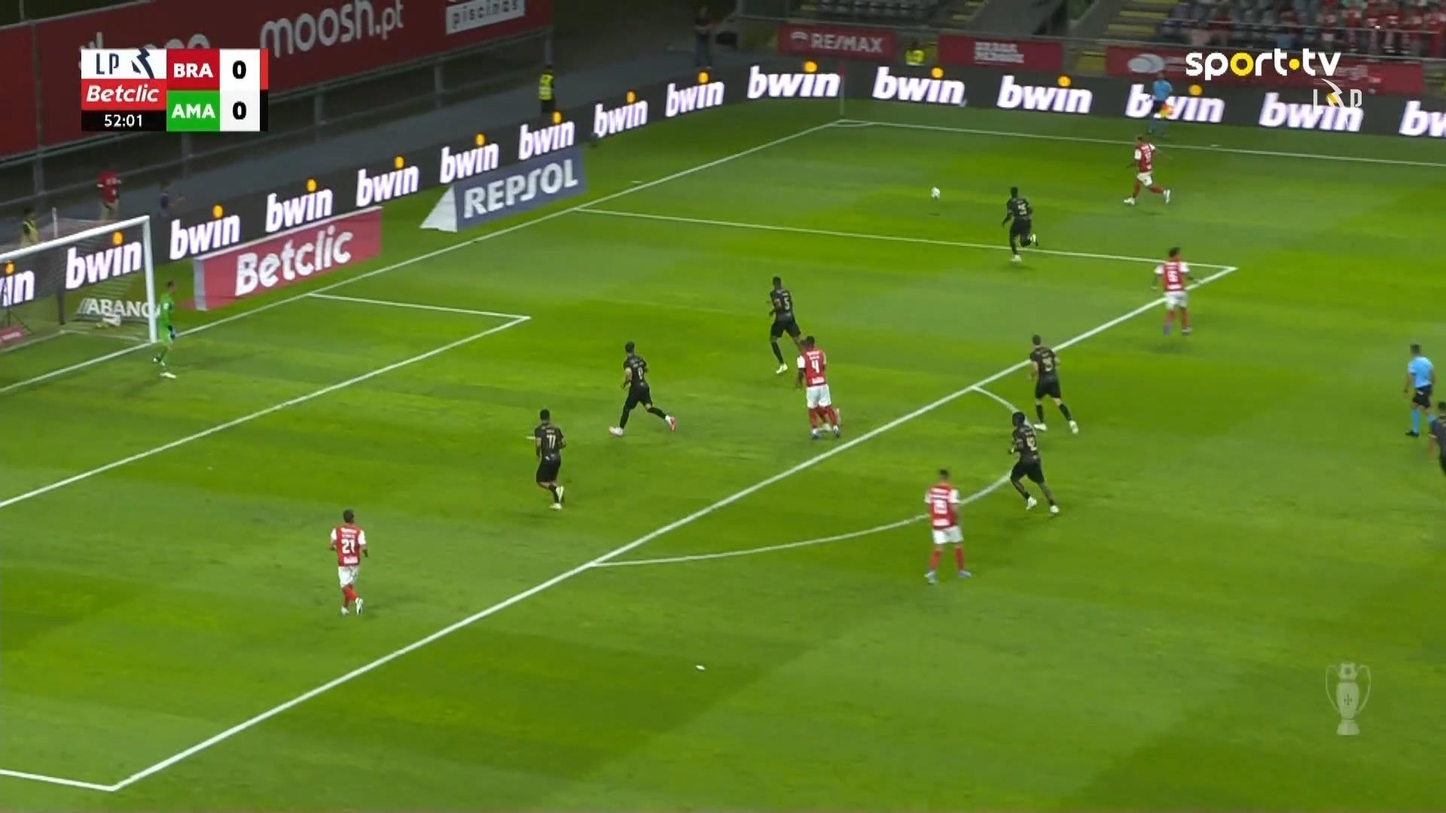ball: (930, 187, 940, 199)
goalkeeper: (151, 279, 178, 367)
player: (608, 339, 677, 436), (922, 467, 972, 584), (1006, 410, 1060, 515), (1024, 333, 1078, 434), (793, 334, 841, 440), (328, 507, 368, 616), (1150, 245, 1194, 336), (529, 408, 566, 510), (766, 275, 803, 374), (1122, 133, 1172, 206), (1000, 185, 1038, 262), (1426, 400, 1445, 472)
referee: (1402, 342, 1435, 436), (1146, 69, 1174, 136)
